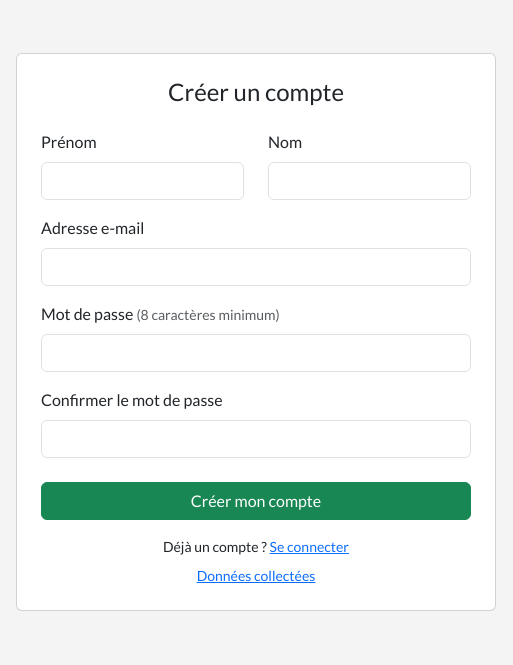
Scenario: blocks submission when passwords do not match
This screenshot has width=513, height=665.
Type "Jane" into the field below "Prénom" at (142, 181), box left=41, top=162, right=244, bottom=200
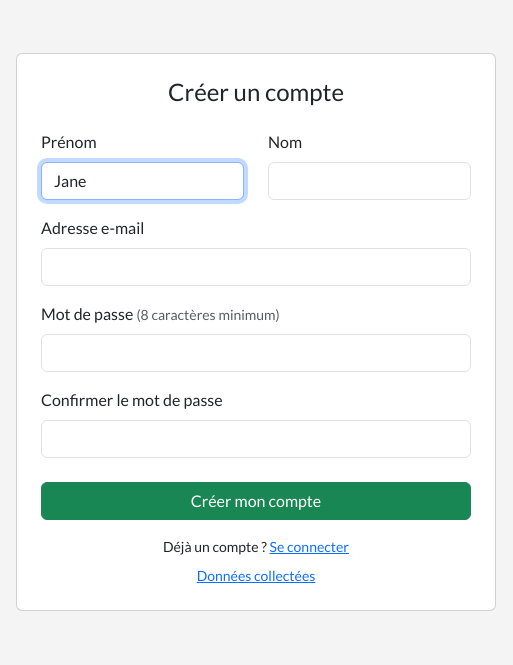
Type "Doe" into the 2nd field at (370, 181), box left=268, top=162, right=471, bottom=200
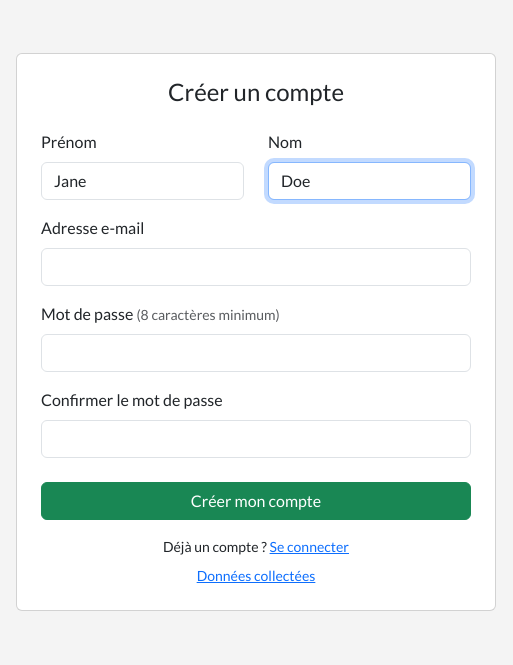
Type "a@b.com" into the field below "Adresse e-mail" at (256, 267), box left=41, top=248, right=471, bottom=286
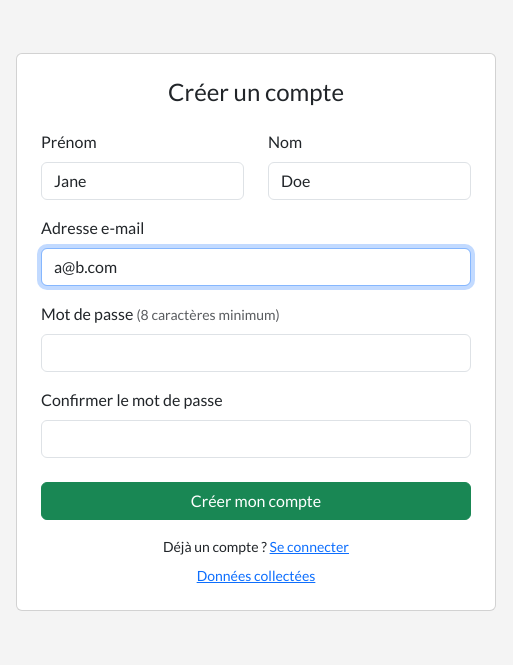
Type "password123" into the password field below "(8 caractères minimum)" at (256, 353), box left=41, top=334, right=471, bottom=372
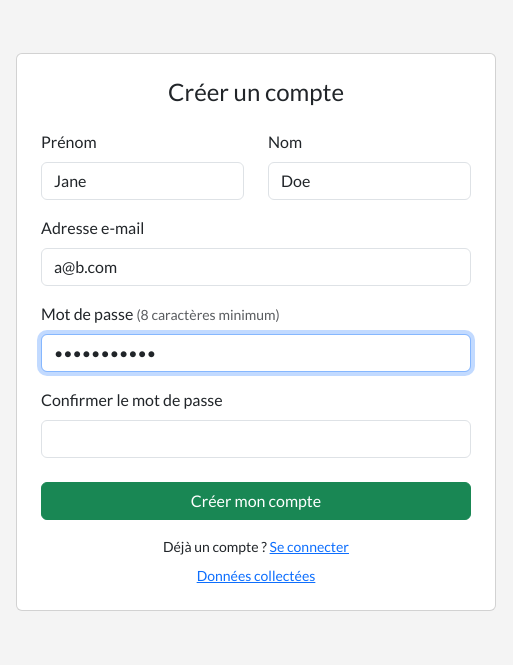
Type "different1" into the password field below "Confirmer le mot de passe" at (256, 439), box left=41, top=420, right=471, bottom=458
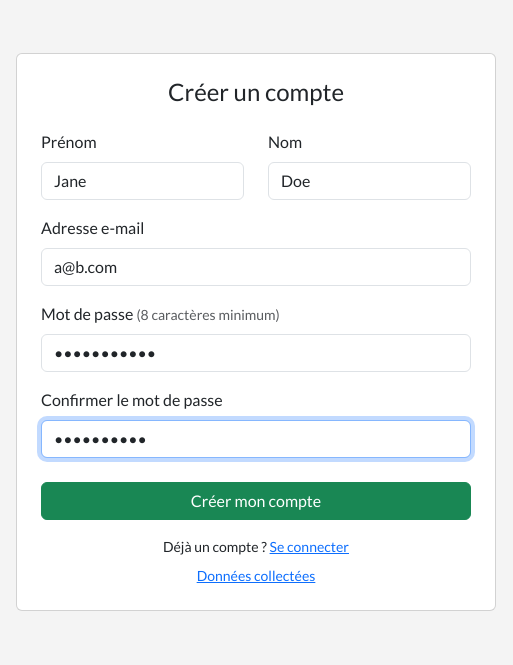
Click the button "Créer mon compte" at (256, 501), box left=41, top=482, right=471, bottom=520
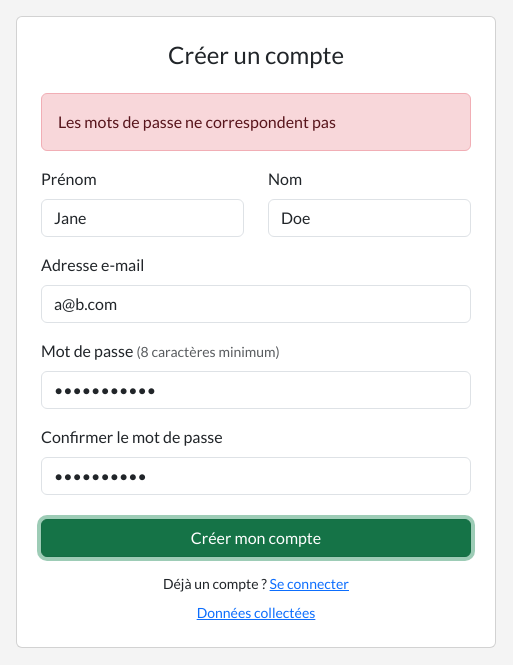
Check: the text "Les mots de passe ne correspondent pas" is shown, box left=41, top=93, right=471, bottom=151
